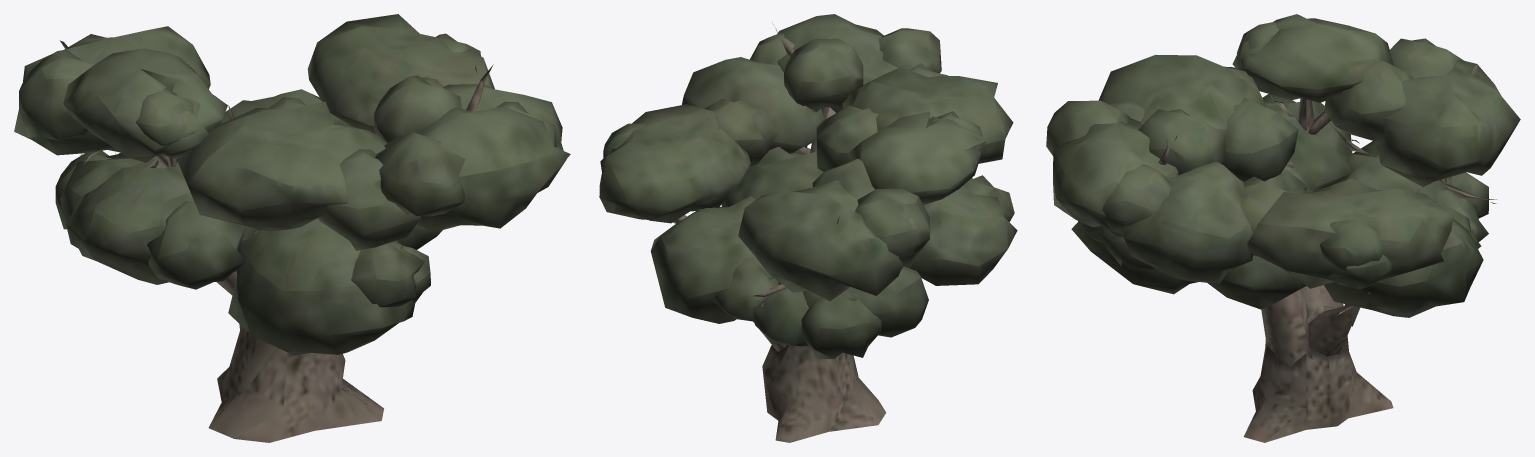
The model's file is a35_olive_b.glb.
3 views of the same model, side by side, from view 1: azimuth 30°, elevation 25°; view 2: azimuth 150°, elevation 25°; view 3: azimuth 270°, elevation 25° (orthographic). The views are drawn at different scales.
Visible parts, largest first — view 1: body; view 2: body; view 3: body.
Part boxes in pixels (x1,y1,x2,y2): body: (14, 14, 570, 442); body: (599, 14, 1017, 442); body: (1046, 14, 1520, 442).
Size of the model in its own units: 0.9323 by 0.765 by 1.
Materials: 1 (1 with a texture image).
